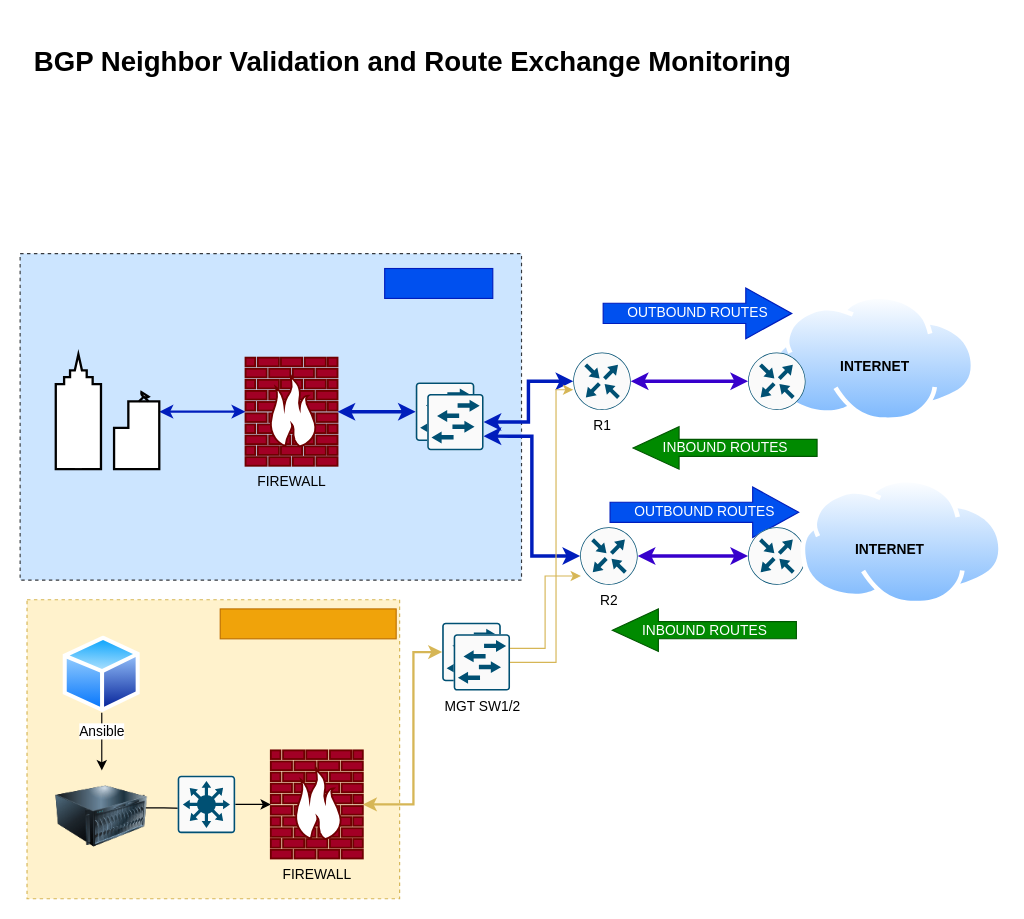
This 1024x919 diagram has some shape labels left out. Each missing label, with the centre of its shape:
"DATA-PLANE" goes at pixel 438 282.
"Internal Network" goes at pixel 107 411.
"ISP1" goes at pixel 776 380.
"ISP2" goes at pixel 776 555.
"MANAGEMENT PLANE" goes at pixel 307 623.
"SW1/2" goes at pixel 455 421.
